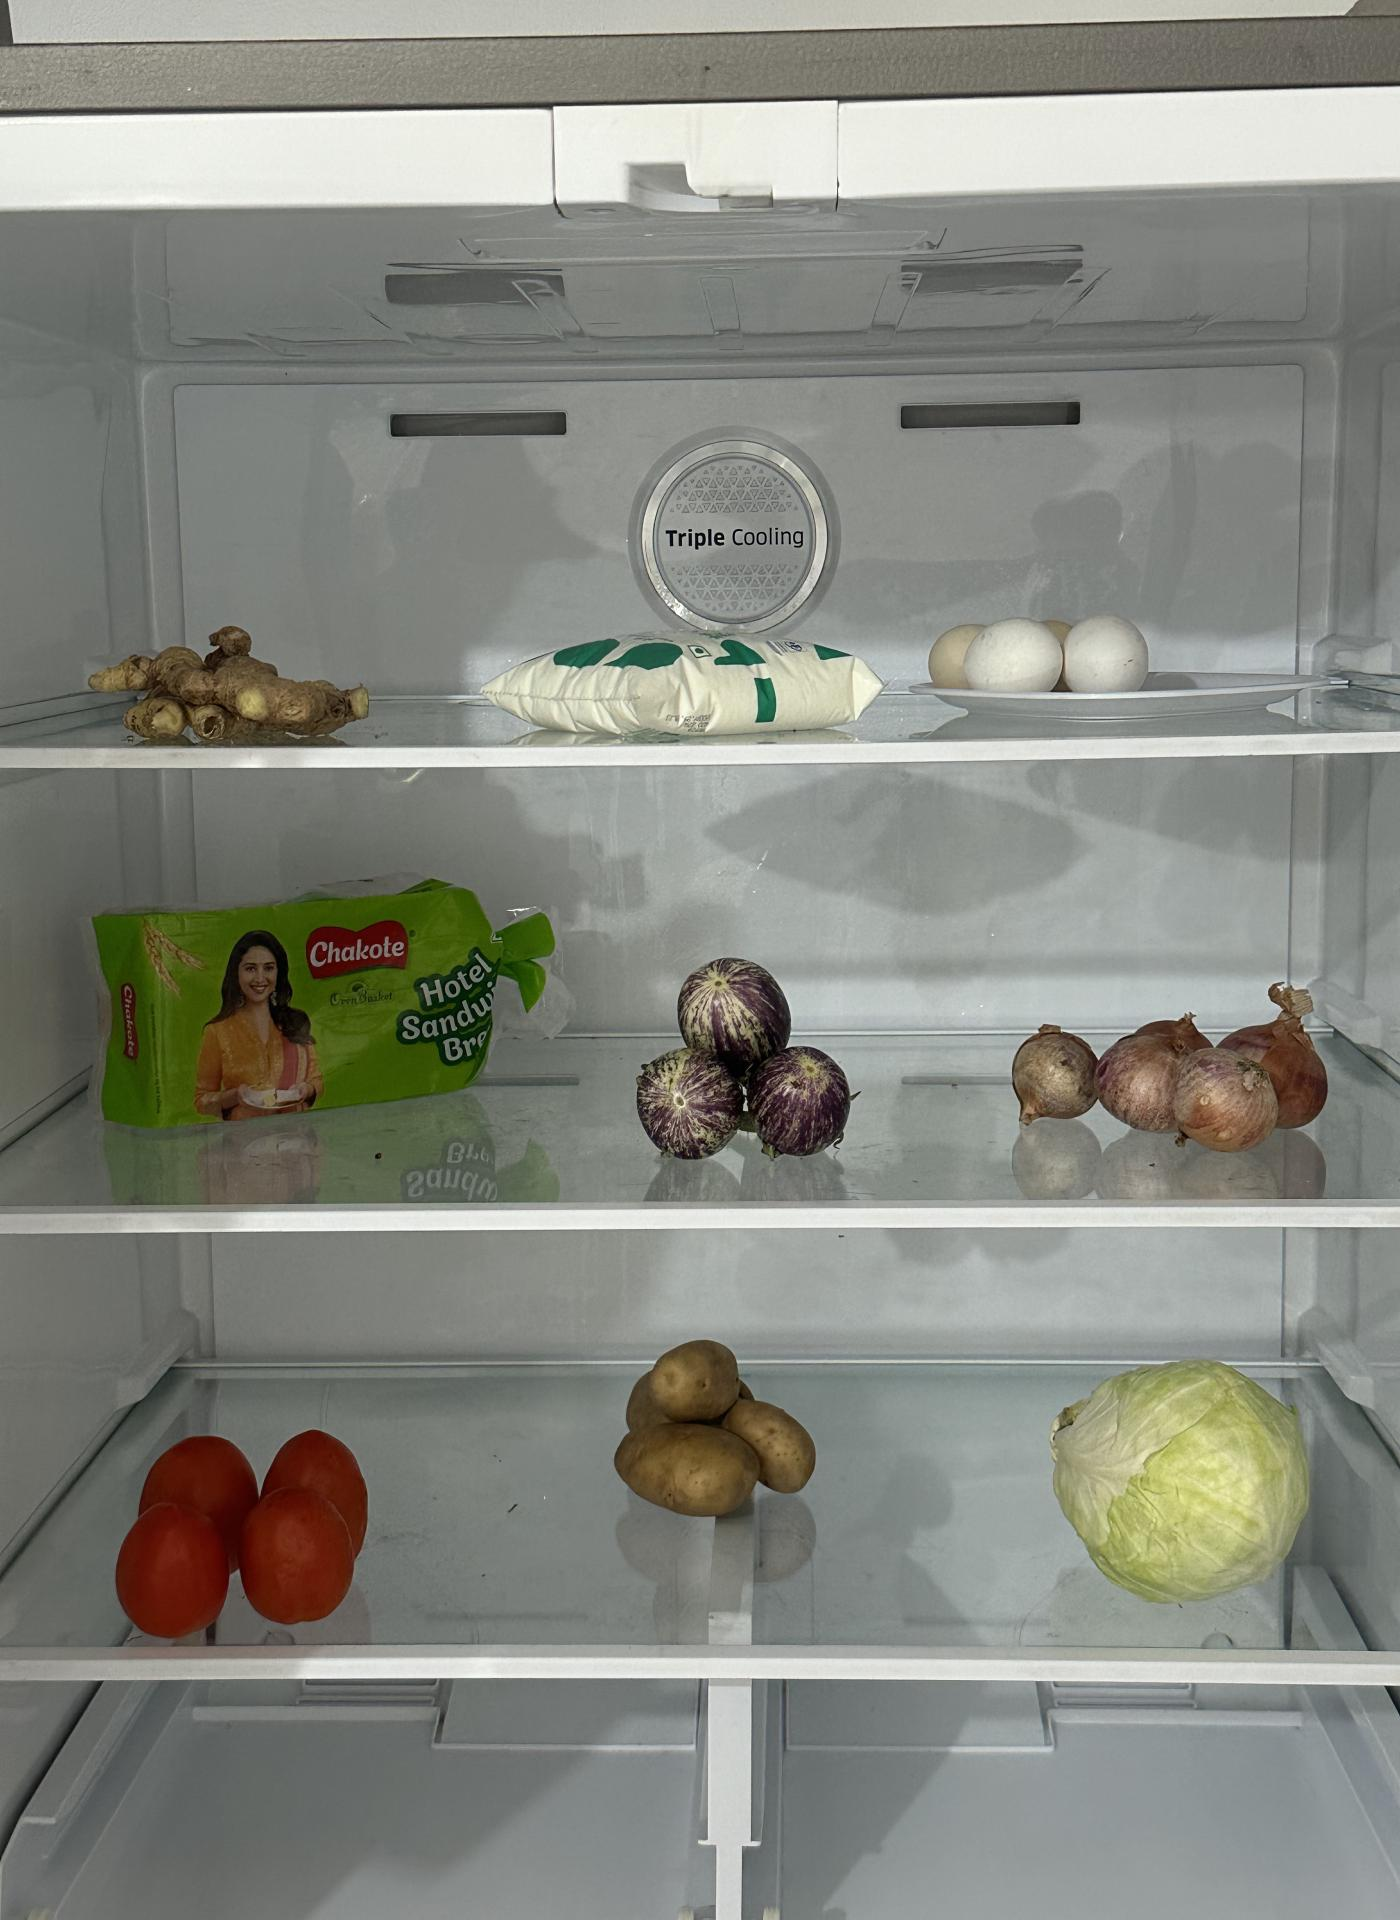bread: (91, 878, 499, 1121)
cabbage: (1054, 1358, 1314, 1597), (113, 1430, 373, 1643)
egg: (923, 608, 1161, 698)
ginger: (91, 623, 362, 747)
milk: (491, 628, 884, 739)
onion: (1002, 1006, 1330, 1146)
potato: (617, 1339, 817, 1519)
